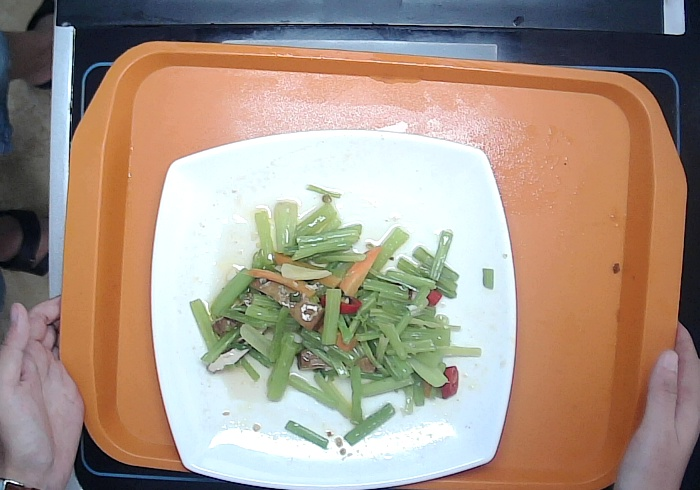ZNLD-Bai_Fang_Pan: (147, 126, 518, 489)
